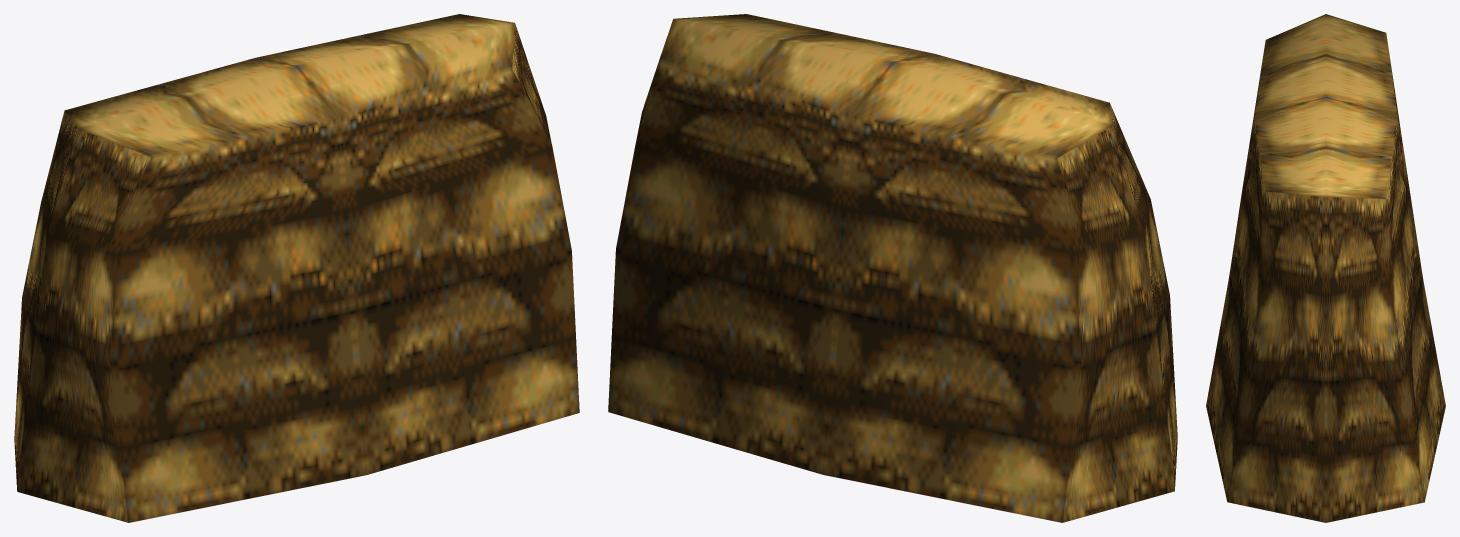
The model's file is Sandbag.FBX.
The picture shows the model from 3 angles, left to right: view 1: azimuth 30°, elevation 25°; view 2: azimuth 150°, elevation 25°; view 3: azimuth 270°, elevation 25°; orthographic projection. The views are drawn at different scales.
Parts seen in each view (by area): view 1: 1; view 2: 1; view 3: 1.
Part boxes in pixels (x1,y1,x2,y2): 1: (14, 14, 579, 522); 1: (608, 14, 1177, 522); 1: (1206, 14, 1445, 522).
Bounding box in the file's own units: 1.29 × 0.7944 × 0.5566.
